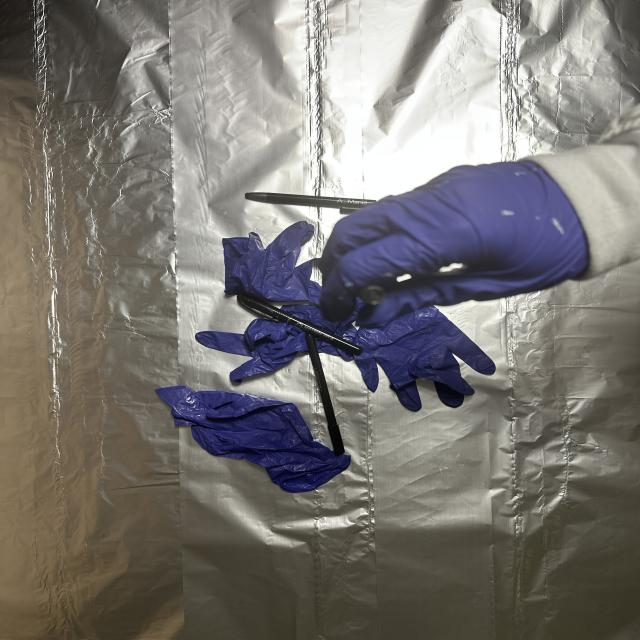gloves_contaminated: (319, 162, 589, 327)
